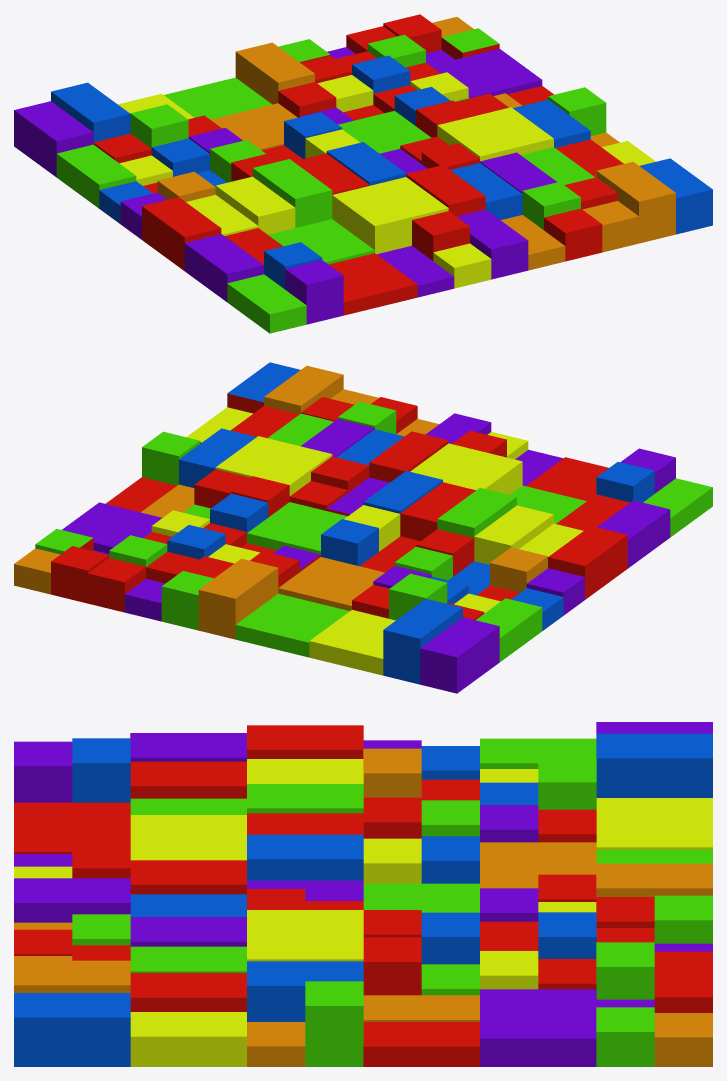
Rendered from freak_wall1.fbx.
3 views of the same model, one above another, from view 1: azimuth 30°, elevation 25°; view 2: azimuth 150°, elevation 25°; view 3: azimuth 270°, elevation 25° (orthographic). The views are drawn at different scales.
Visible parts, largest first — view 1: discombobulated_mesh; view 2: discombobulated_mesh; view 3: discombobulated_mesh.
Part boxes in pixels (x1,y1,x2,y2): discombobulated_mesh: (14, 14, 712, 333); discombobulated_mesh: (14, 362, 712, 693); discombobulated_mesh: (14, 722, 712, 1066).
Size of the model in its own units: 400 by 39.92 by 400.
